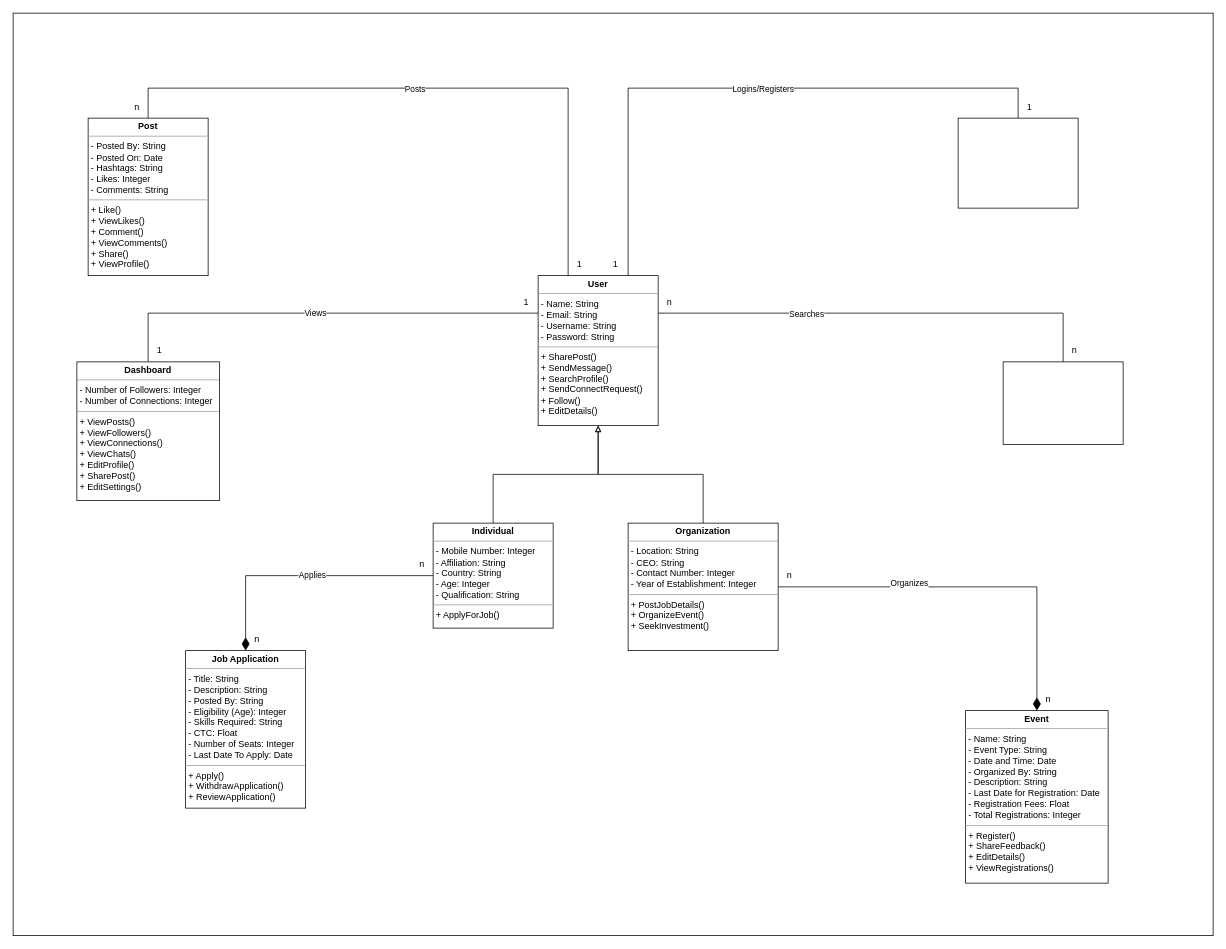
The diagram is 1226 pixels wide and 949 high, and some of its shapes have lost their labels. Here are the shapes that lost their labels. From the top down, the centre of each, then its label:
At point 1017,162: "Login/Register + Login() + RegisterAsIndividual() + RegisterAsOrganization()".
At point 1062,402: "Search Result - Query: String - Filters: String + EditQuery() + EditFilters()".
